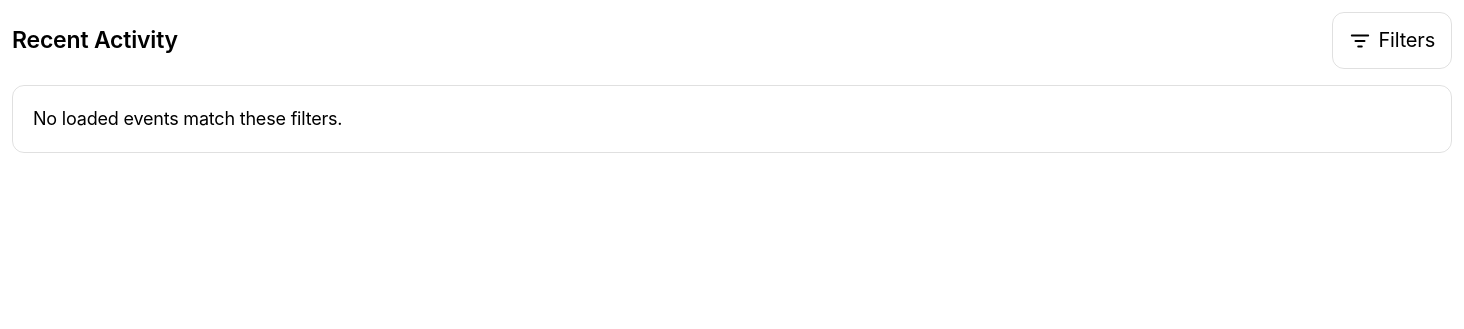
Test: hides filters until requested and retains the filter selection when collapsed
The image size is (1464, 329).
expect the field labelled "Event Type" is not shown: met
Click the button with aria-label "Filter Activity": (1392, 40) [1332, 12, 1452, 69]
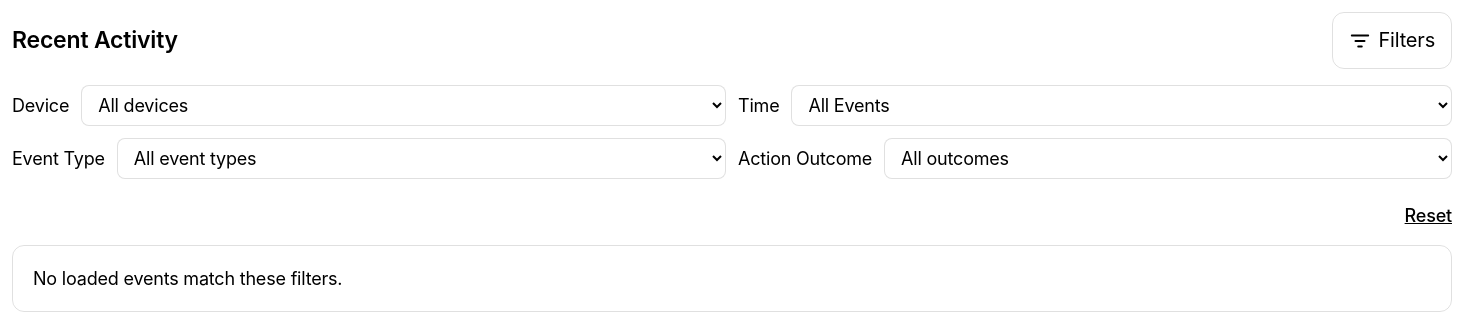
Select "Last hour" in the dropdown labelled "Time": (1122, 106) [792, 85, 1452, 126]
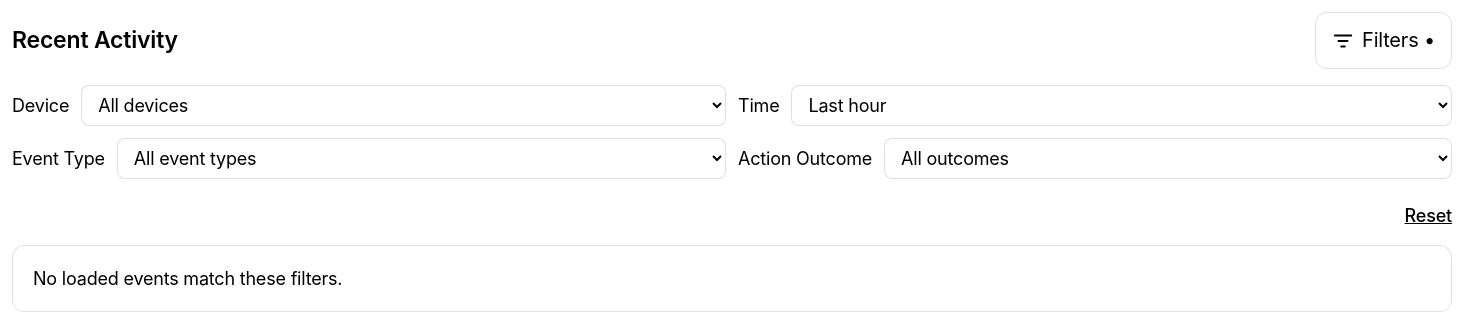
Click the button with aria-label "Filter Activity": (1384, 40) [1315, 12, 1452, 69]
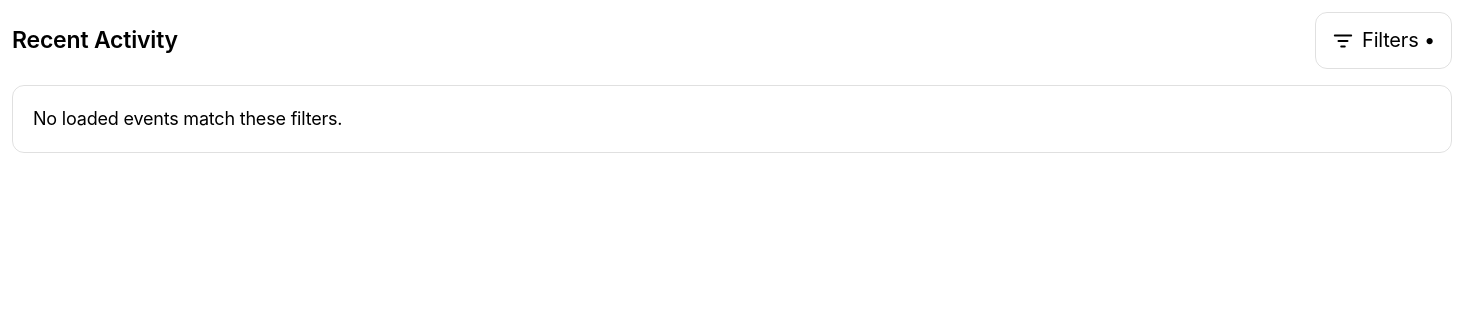
expect the label labelled "Time" is gone: met
Click the button with aria-label "Filter Activity": (1384, 40) [1315, 12, 1452, 69]
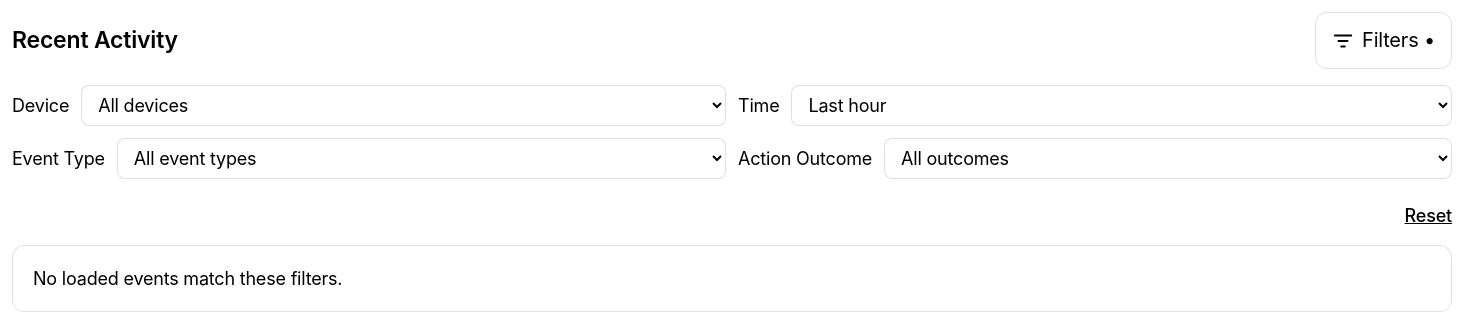
expect the dropdown labelled "Time" shows "Last hour": met, box [792, 85, 1452, 126]
